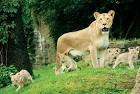lion: (53, 10, 111, 75)
